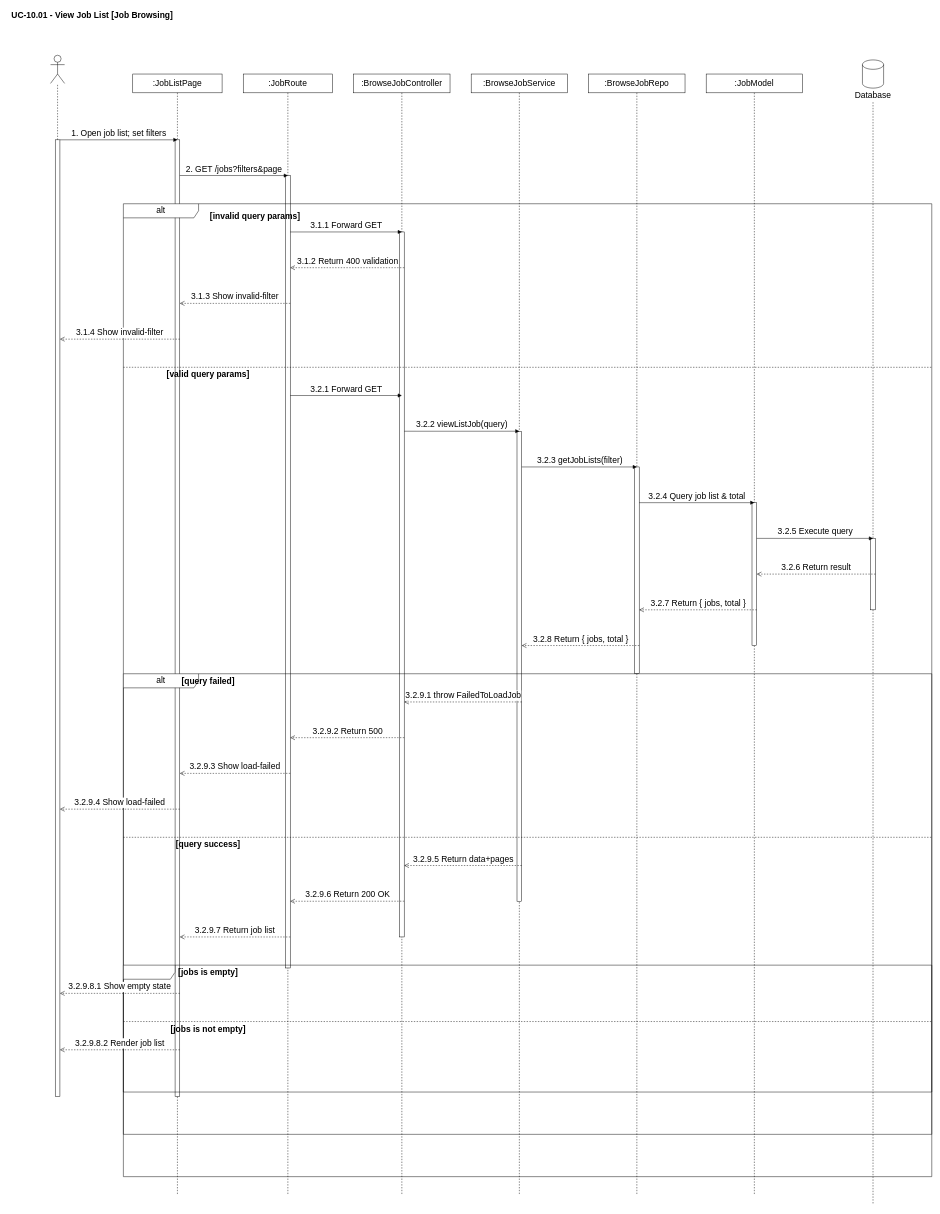
This 940x1214 diagram has some shape labels left out. The shapes that lost their labels are listed below. From the top down, each one's centre as x and y in pixels, then its label:
At point (57, 69): "Guest / Client / Freelancer".
At point (527, 1028): "opt".
